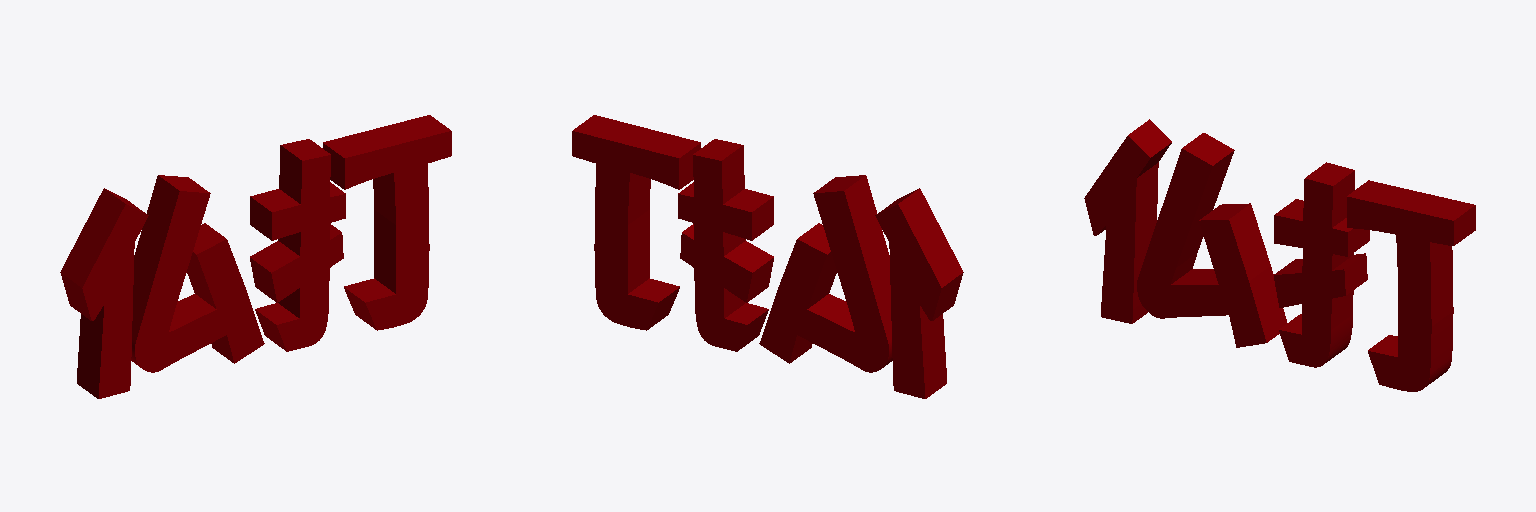
The model's file is title.obj.
The picture shows the model from 3 angles: view 1: azimuth 30°, elevation 25°; view 2: azimuth 150°, elevation 25°; view 3: azimuth 330°, elevation 25°; orthographic projection.
Parts seen in each view (by area): view 1: テキスト; view 2: テキスト; view 3: テキスト.
Boxes of the visible parts, box(x1,y1,x2,y2) form: テキスト: box(60, 115, 451, 398); テキスト: box(572, 115, 963, 398); テキスト: box(1084, 119, 1475, 391).
Size of the model in its own units: 1.95 by 0.9494 by 0.2.